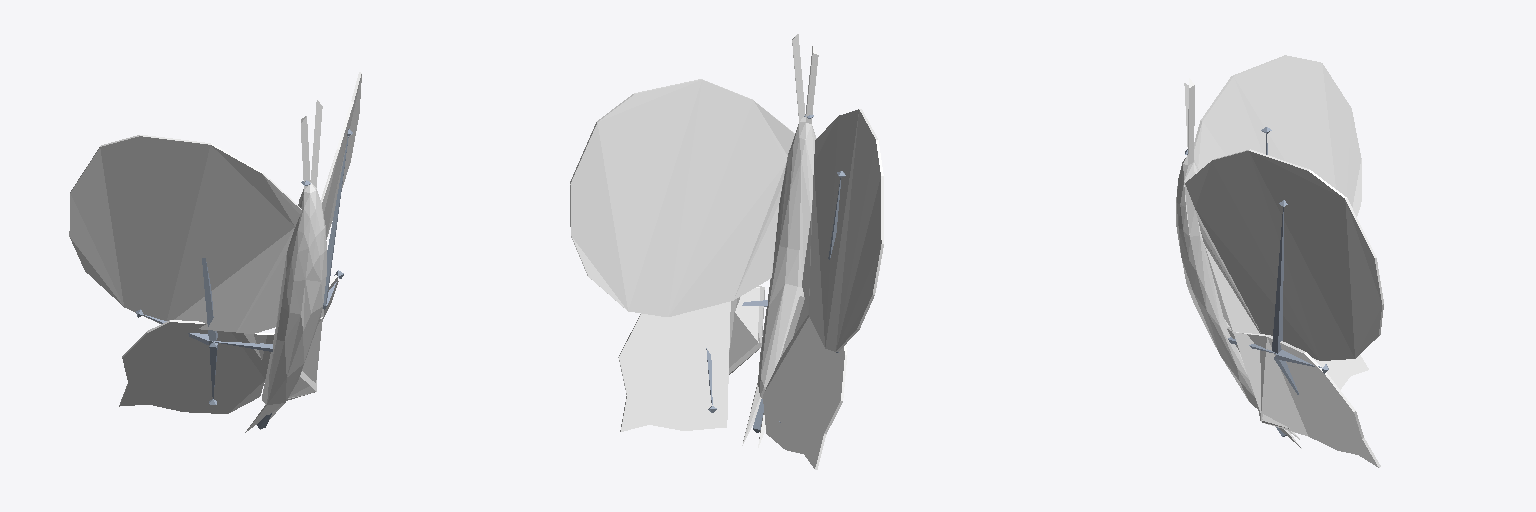
Rendered from butterfly.obj.
3 views of the same model, side by side, from view 1: azimuth 30°, elevation 25°; view 2: azimuth 150°, elevation 25°; view 3: azimuth 270°, elevation 25° (orthographic).
Parts seen in each view (by area): view 1: GeoSphere002, Bone007; view 2: GeoSphere002; view 3: GeoSphere002, Bone007.
Boxes of the visible parts, <box> form: GeoSphere002: <box>69,72,361,432</box>; Bone007: <box>323,136,348,306</box>; GeoSphere002: <box>570,34,883,469</box>; GeoSphere002: <box>1176,55,1383,467</box>; Bone007: <box>1272,207,1283,353</box>.
Bounding box in the file's own units: 179 × 211 × 107.